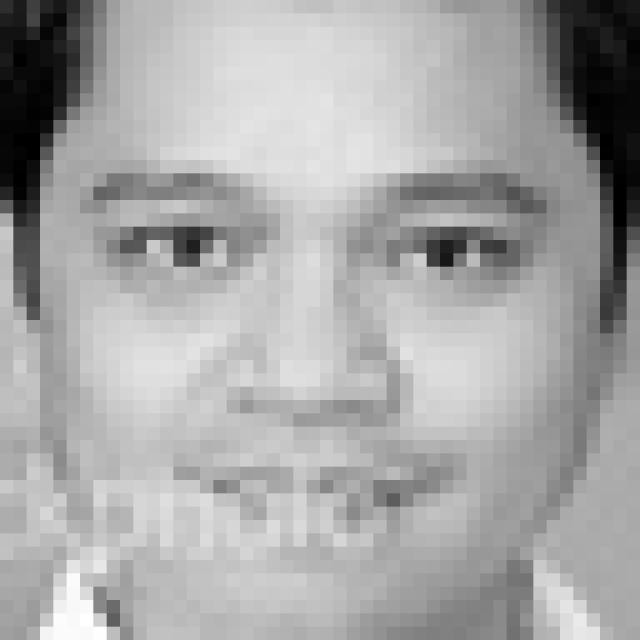neutral: (77, 154, 558, 548)
